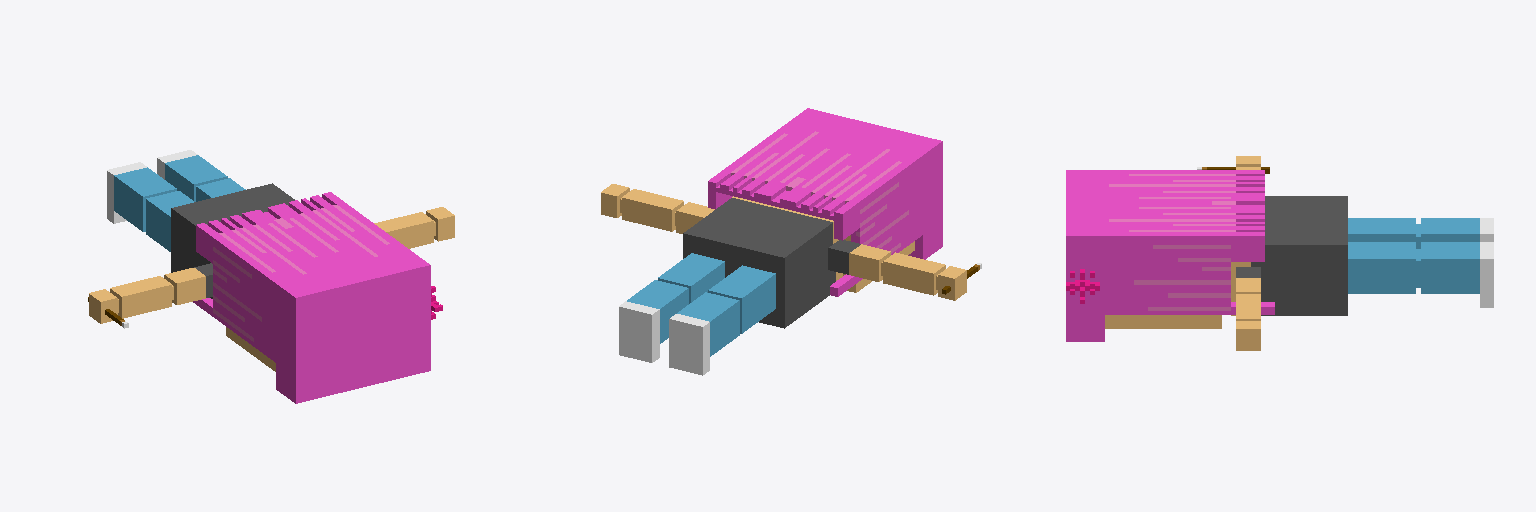
The picture shows the model from 3 angles: view 1: azimuth 30°, elevation 25°; view 2: azimuth 150°, elevation 25°; view 3: azimuth 270°, elevation 25°; orthographic projection.
Parts seen in each view (by area): view 1: latiendaeio; view 2: latiendaeio; view 3: latiendaeio.
Boxes of the visible parts, box(x1,y1,x2,y2) form: latiendaeio: box(88, 150, 454, 403); latiendaeio: box(601, 108, 981, 375); latiendaeio: box(1066, 156, 1493, 350).
Bounding box in the file's own units: 84 × 24 × 88.
1 materials, 1 textured.